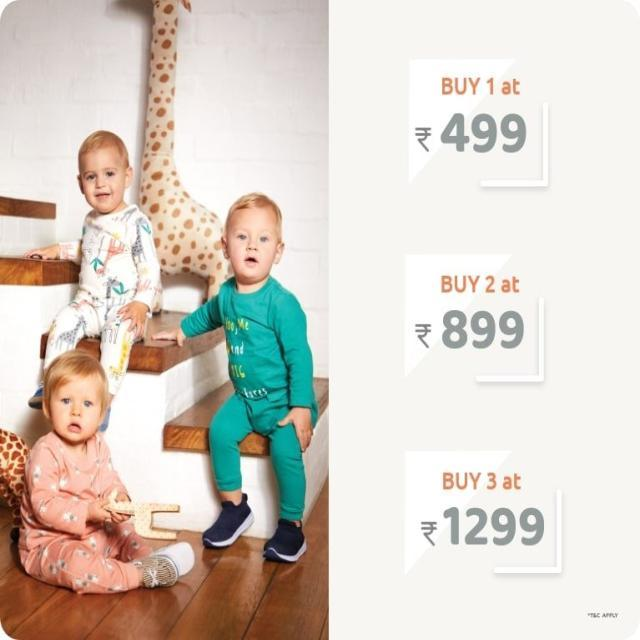non-dog: (149, 192, 318, 562), (18, 350, 195, 594), (20, 130, 162, 432)
